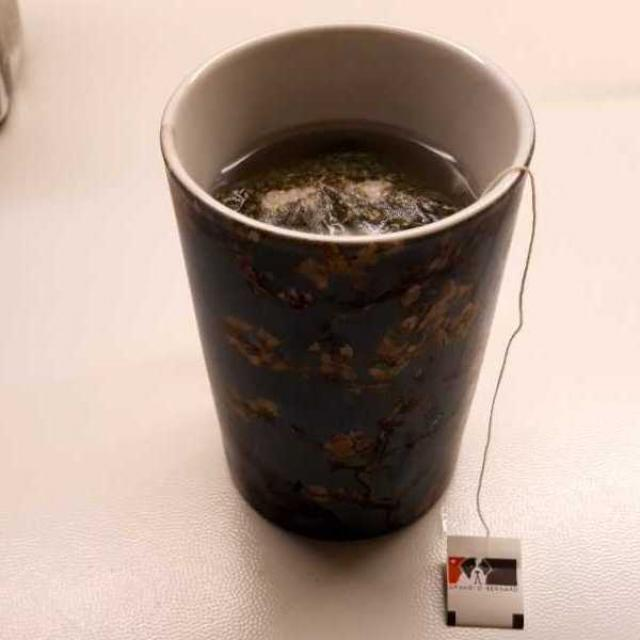herbal-tea: (221, 134, 465, 233)
